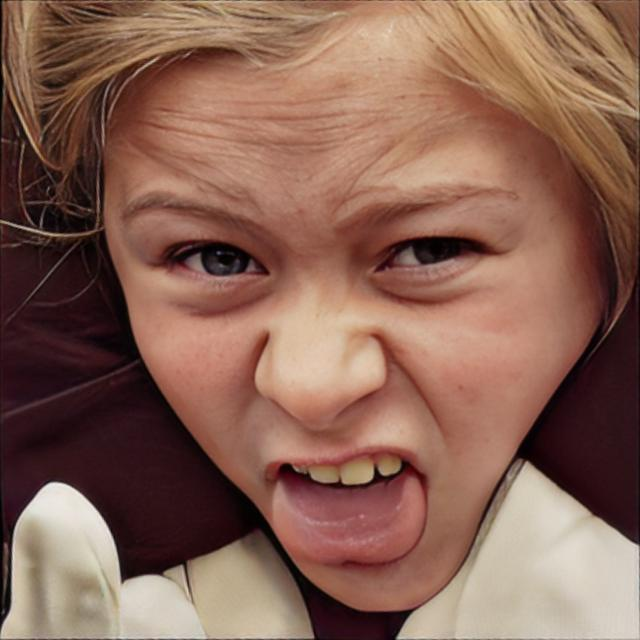disgust: (100, 26, 610, 612)
